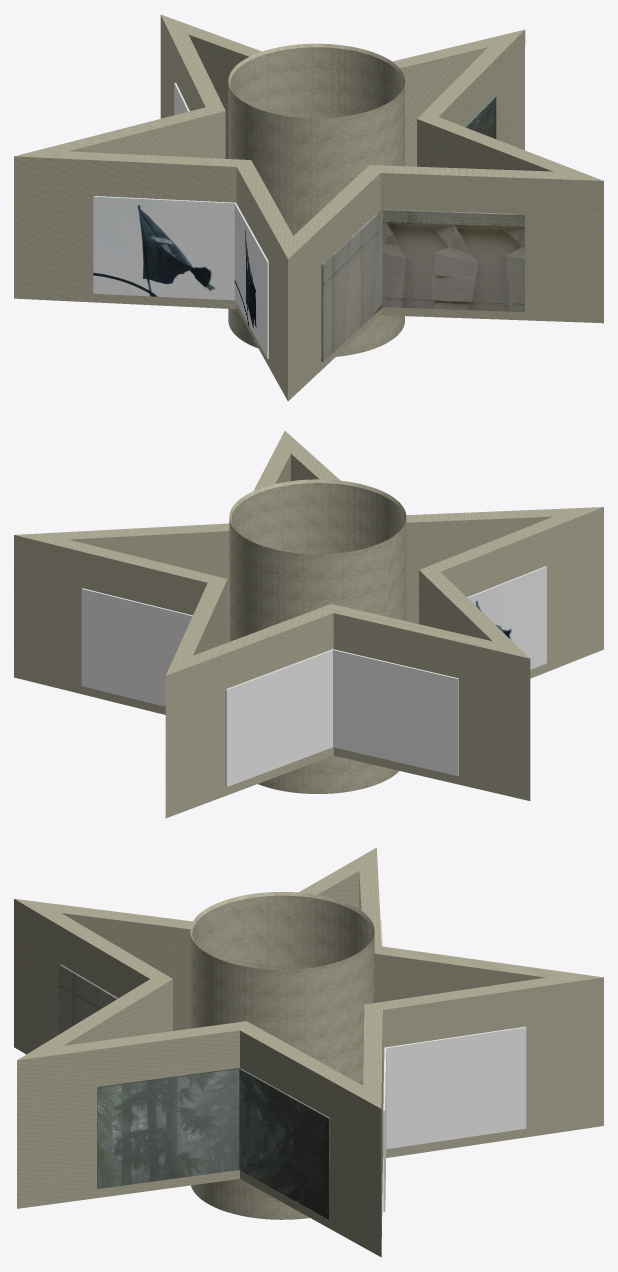
Rendered from spomenikstar.glb.
3 views of the same model, one above another, from view 1: azimuth 30°, elevation 25°; view 2: azimuth 150°, elevation 25°; view 3: azimuth 270°, elevation 25° (orthographic). The views are drawn at different scales.
Visible parts, largest first — view 1: TWE - 3D-Ansicht - 3D-Ansicht 4.001, Cylinder.002, videotarget, TWE - 3D-Ansicht - 3D-Ansicht 4.025, TWE - 3D-Ansicht - 3D-Ansicht 4.021; view 2: TWE - 3D-Ansicht - 3D-Ansicht 4.001, Cylinder.002, TWE - 3D-Ansicht - 3D-Ansicht 4.024, TWE - 3D-Ansicht - 3D-Ansicht 4.023, TWE - 3D-Ansicht - 3D-Ansicht 4.025; view 3: TWE - 3D-Ansicht - 3D-Ansicht 4.001, Cylinder.002, TWE - 3D-Ansicht - 3D-Ansicht 4.021, TWE - 3D-Ansicht - 3D-Ansicht 4.023, videotarget.
Boxes of the visible parts, box(x1,y1,x2,y2) form: TWE - 3D-Ansicht - 3D-Ansicht 4.001: box(14, 14, 603, 401); Cylinder.002: box(228, 43, 404, 356); videotarget: box(321, 209, 524, 361); TWE - 3D-Ansicht - 3D-Ansicht 4.025: box(93, 196, 268, 358); TWE - 3D-Ansicht - 3D-Ansicht 4.021: box(464, 96, 496, 138); TWE - 3D-Ansicht - 3D-Ansicht 4.001: box(14, 431, 603, 818); Cylinder.002: box(229, 479, 406, 793); TWE - 3D-Ansicht - 3D-Ansicht 4.024: box(225, 649, 458, 786); TWE - 3D-Ansicht - 3D-Ansicht 4.023: box(81, 588, 192, 706); TWE - 3D-Ansicht - 3D-Ansicht 4.025: box(467, 566, 546, 670); TWE - 3D-Ansicht - 3D-Ansicht 4.001: box(14, 847, 603, 1257); Cylinder.002: box(190, 892, 374, 1219); TWE - 3D-Ansicht - 3D-Ansicht 4.021: box(97, 1068, 330, 1219); TWE - 3D-Ansicht - 3D-Ansicht 4.023: box(383, 1026, 526, 1211); videotarget: box(59, 964, 118, 1034).
Bounding box in the file's own units: 16.61 × 7.41 × 15.84.
6 materials, 4 textured.
